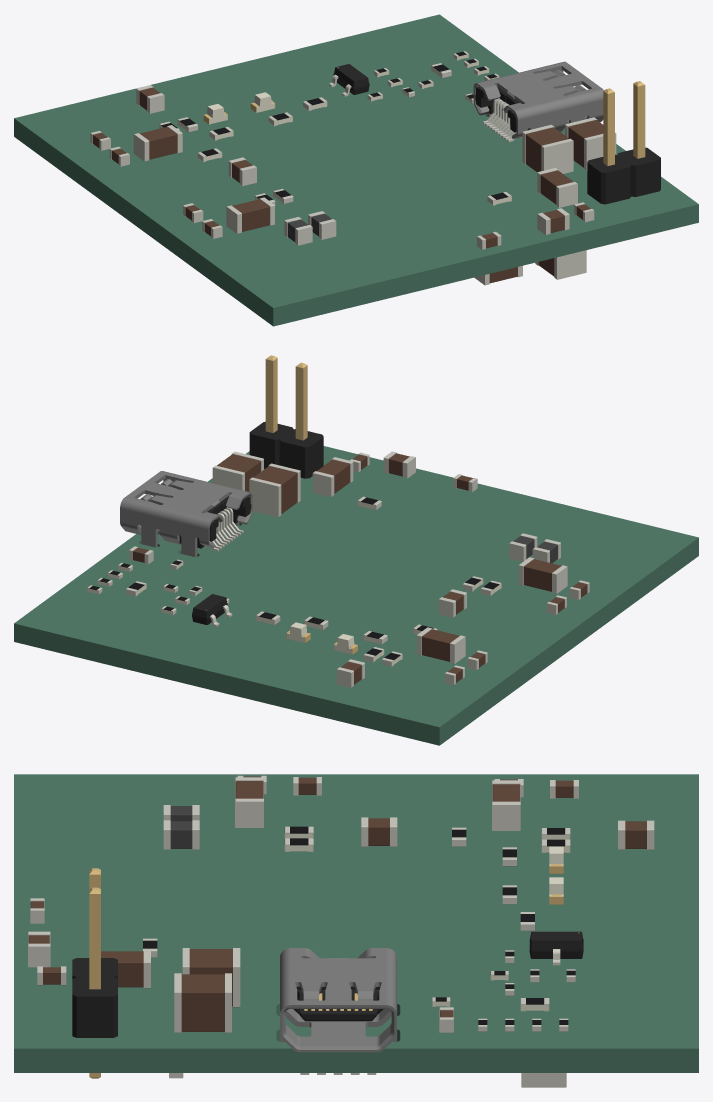
The model's file is fpga25t.glb.
3 renders of one model, top to bottom at view 1: azimuth 30°, elevation 25°; view 2: azimuth 150°, elevation 25°; view 3: azimuth 270°, elevation 25°, orthographic. The views are drawn at different scales.
Parts seen in each view (by area): view 1: =>[0:1:1:28], =>[0:1:1:9], =>[0:1:1:23], =>[0:1:1:7] (×3), =>[0:1:1:21] (×3), =>[0:1:1:19] (×3), =>[0:1:1:13] (×2), =>[0:1:1:15]; view 2: =>[0:1:1:28], =>[0:1:1:9], =>[0:1:1:23], =>[0:1:1:21] (×3), =>[0:1:1:7] (×2), =>[0:1:1:19] (×3), =>[0:1:1:15], =>[0:1:1:13]; view 3: =>[0:1:1:28], =>[0:1:1:9], =>[0:1:1:7] (×3), =>[0:1:1:23], =>[0:1:1:21] (×3), =>[0:1:1:19] (×3), =>[0:1:1:13] (×2), =>[0:1:1:3] (×3), =>[0:1:1:15].
Boxes of the visible parts, x1=… form: =>[0:1:1:28]: x1=14, y1=14, x2=698, y2=326; =>[0:1:1:9]: x1=473, y1=61, x2=603, y2=142; =>[0:1:1:23]: x1=587, y1=81, x2=660, y2=204; =>[0:1:1:7] (×3): x1=522, y1=117, x2=616, y2=279; =>[0:1:1:21] (×3): x1=133, y1=125, x2=577, y2=233; =>[0:1:1:19] (×3): x1=136, y1=85, x2=569, y2=234; =>[0:1:1:13] (×2): x1=284, y1=211, x2=336, y2=245; =>[0:1:1:15]: x1=329, y1=64, x2=369, y2=96; =>[0:1:1:28]: x1=14, y1=446, x2=698, y2=745; =>[0:1:1:9]: x1=120, y1=471, x2=252, y2=556; =>[0:1:1:23]: x1=249, y1=355, x2=323, y2=478; =>[0:1:1:21] (×3): x1=312, y1=457, x2=567, y2=663; =>[0:1:1:7] (×2): x1=212, y1=451, x2=300, y2=517; =>[0:1:1:19] (×3): x1=336, y1=451, x2=466, y2=687; =>[0:1:1:15]: x1=192, y1=594, x2=232, y2=626; =>[0:1:1:13]: x1=509, y1=533, x2=537, y2=561; =>[0:1:1:28]: x1=14, y1=774, x2=698, y2=1072; =>[0:1:1:9]: x1=280, y1=948, x2=396, y2=1052; =>[0:1:1:7] (×3): x1=174, y1=948, x2=566, y2=1087; =>[0:1:1:23]: x1=72, y1=868, x2=117, y2=1078; =>[0:1:1:21] (×3): x1=101, y1=777, x2=520, y2=988; =>[0:1:1:19] (×3): x1=28, y1=817, x2=654, y2=967; =>[0:1:1:13] (×2): x1=163, y1=805, x2=199, y2=849; =>[0:1:1:3] (×3): x1=37, y1=777, x2=578, y2=985; =>[0:1:1:15]: x1=529, y1=931, x2=583, y2=965.
Bounding box in the file's own units: 0.0367 × 0.0127 × 0.038.
